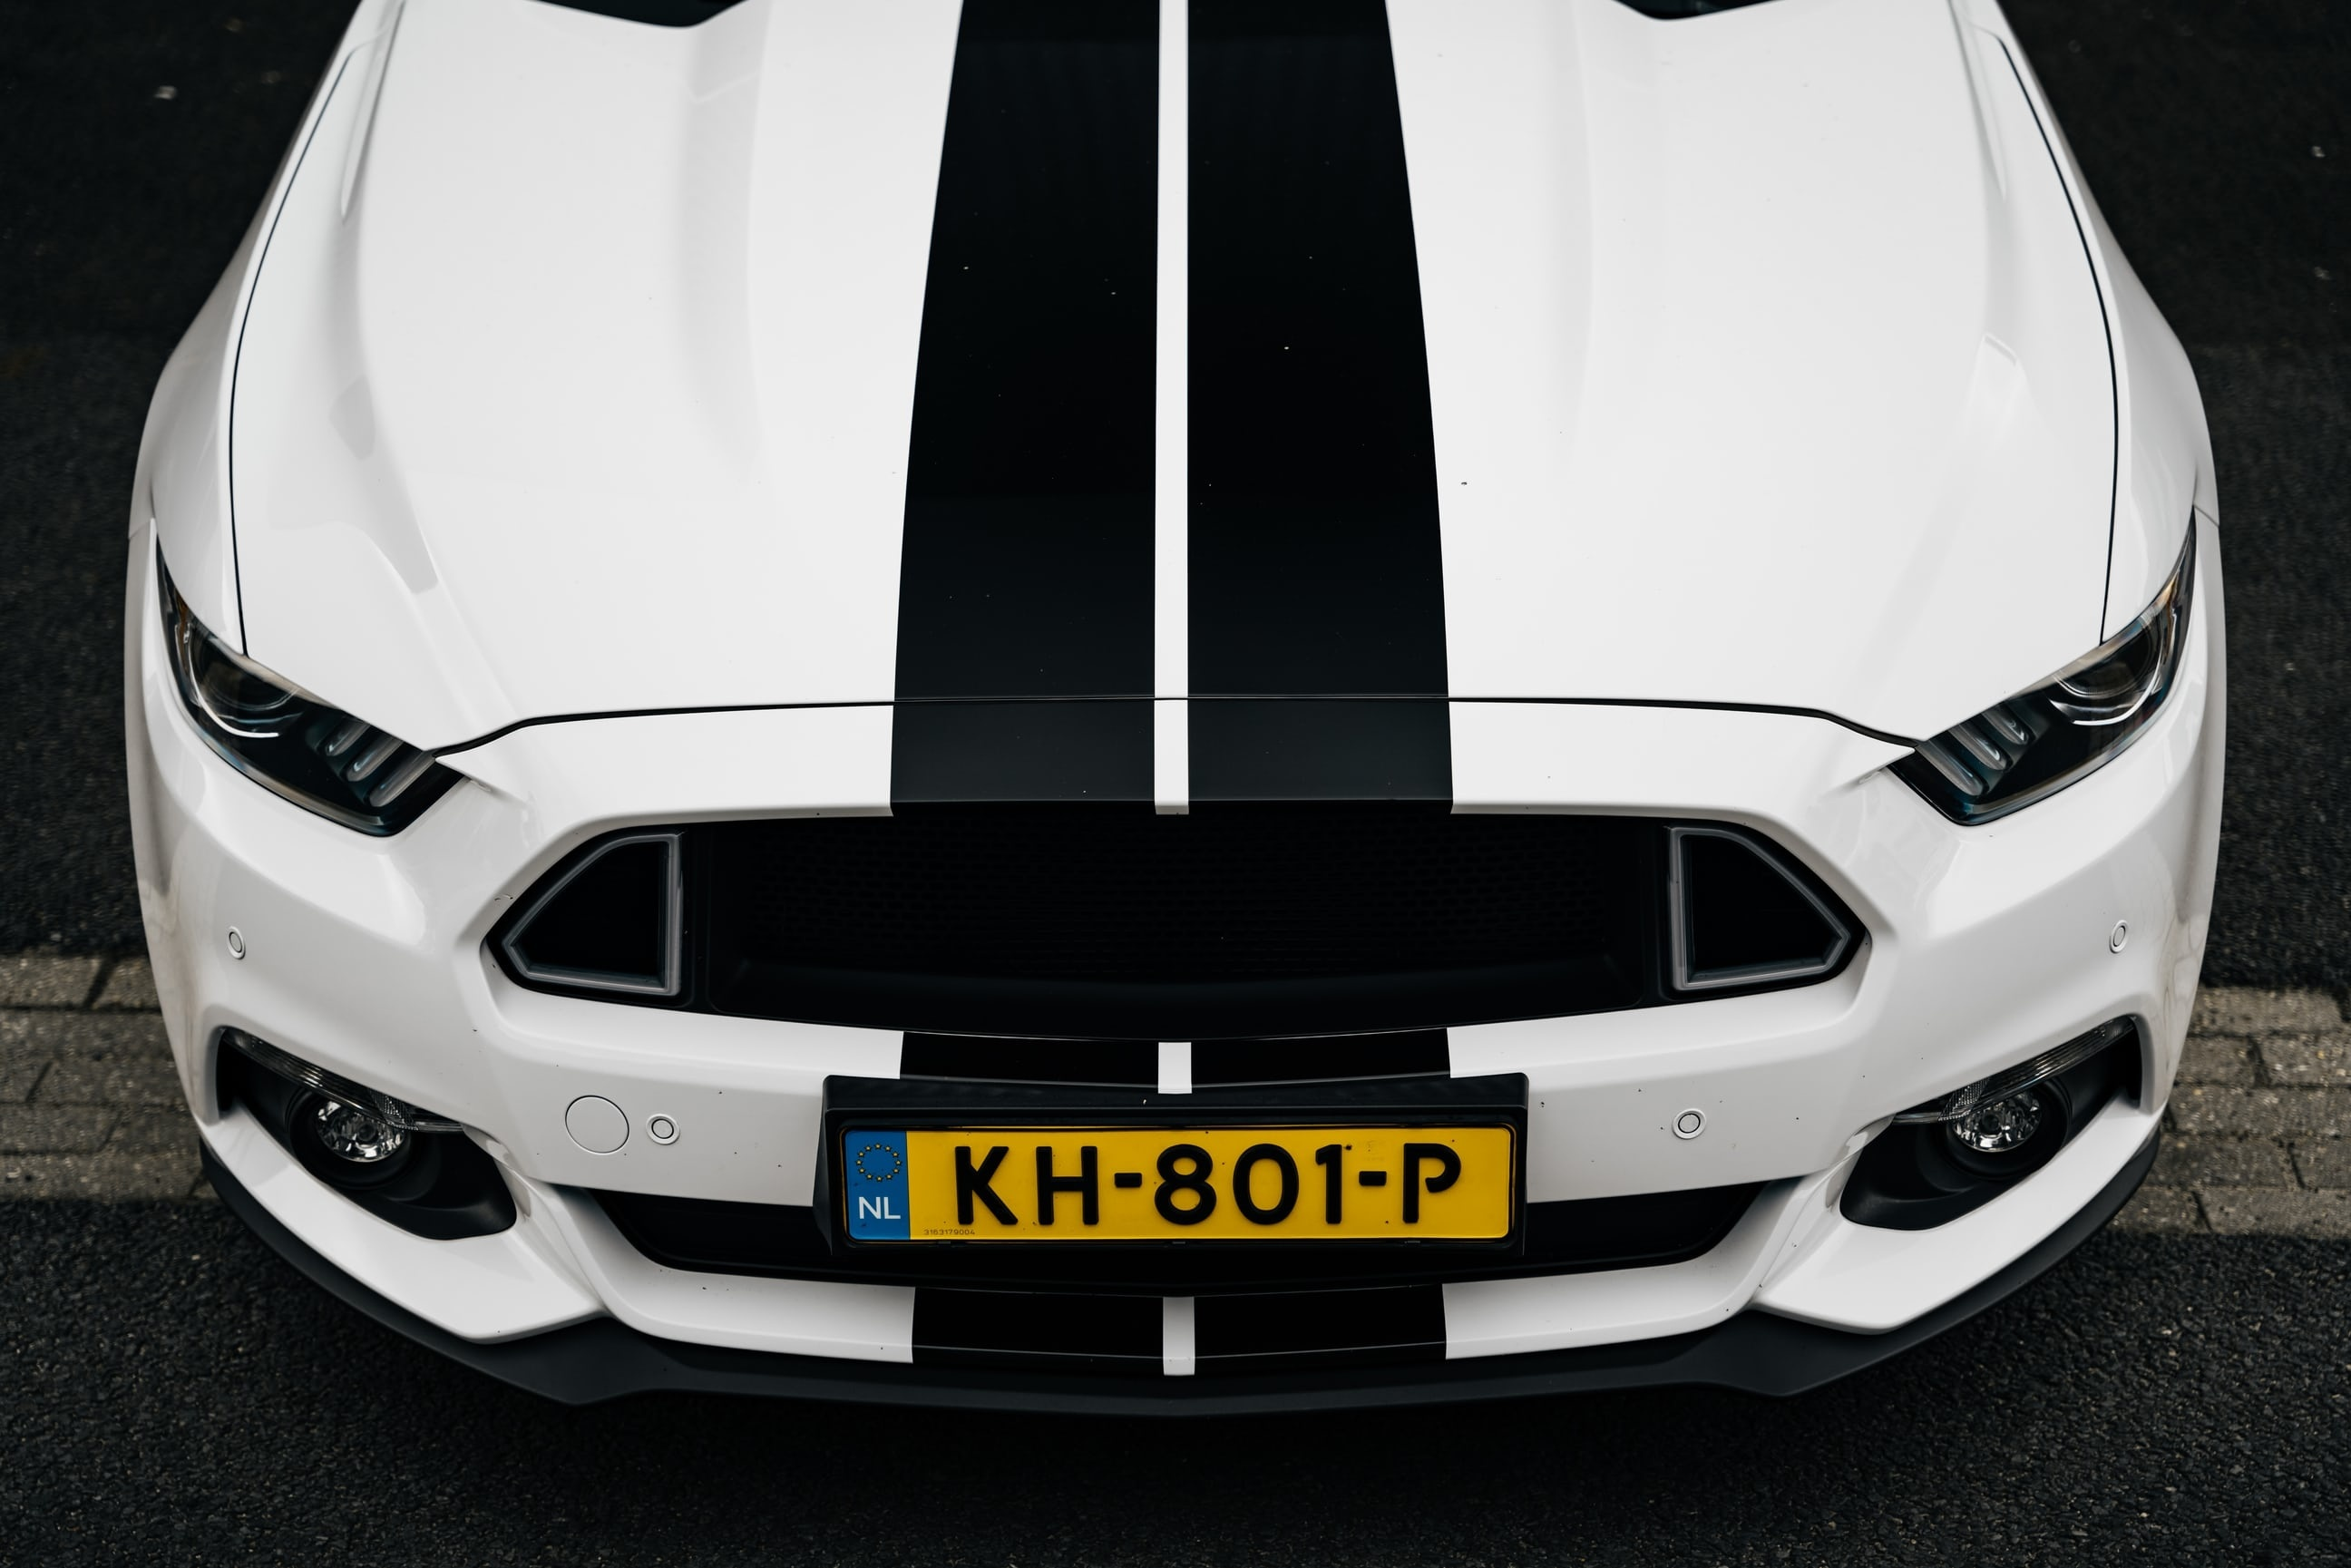plaka: (834, 1118, 1519, 1251)
